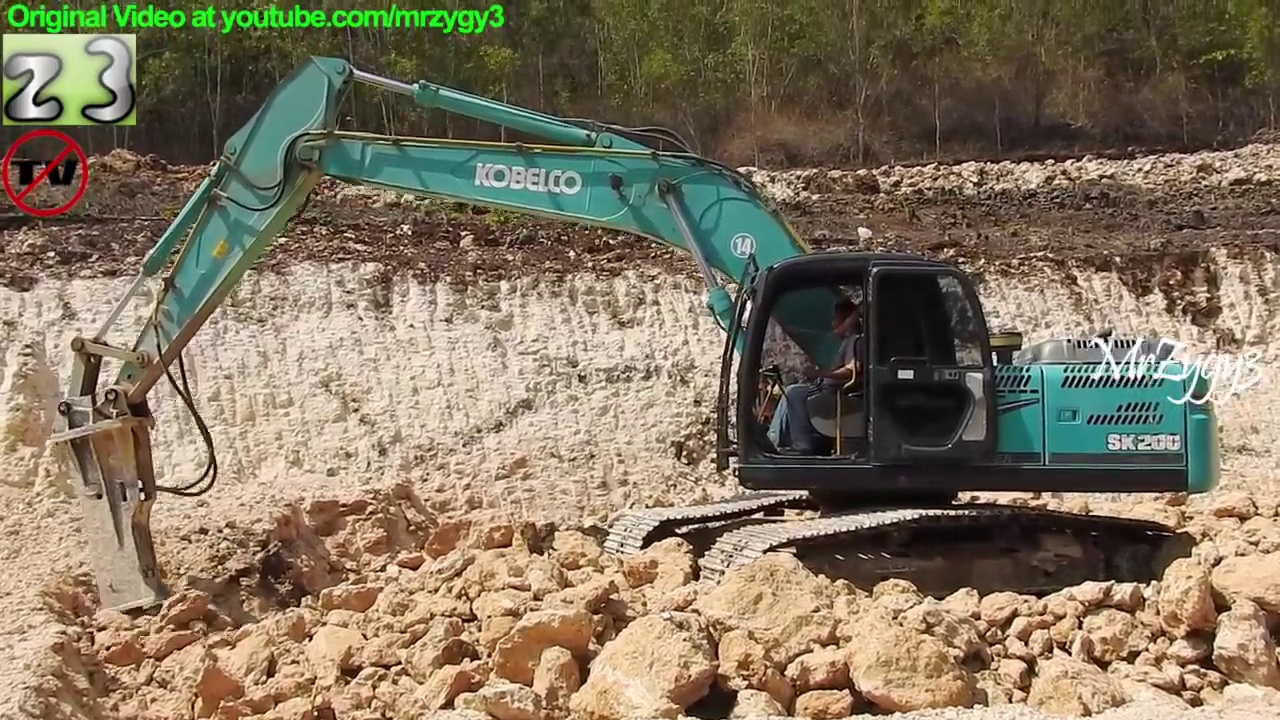excavator breaker: (47, 45, 1230, 628)
